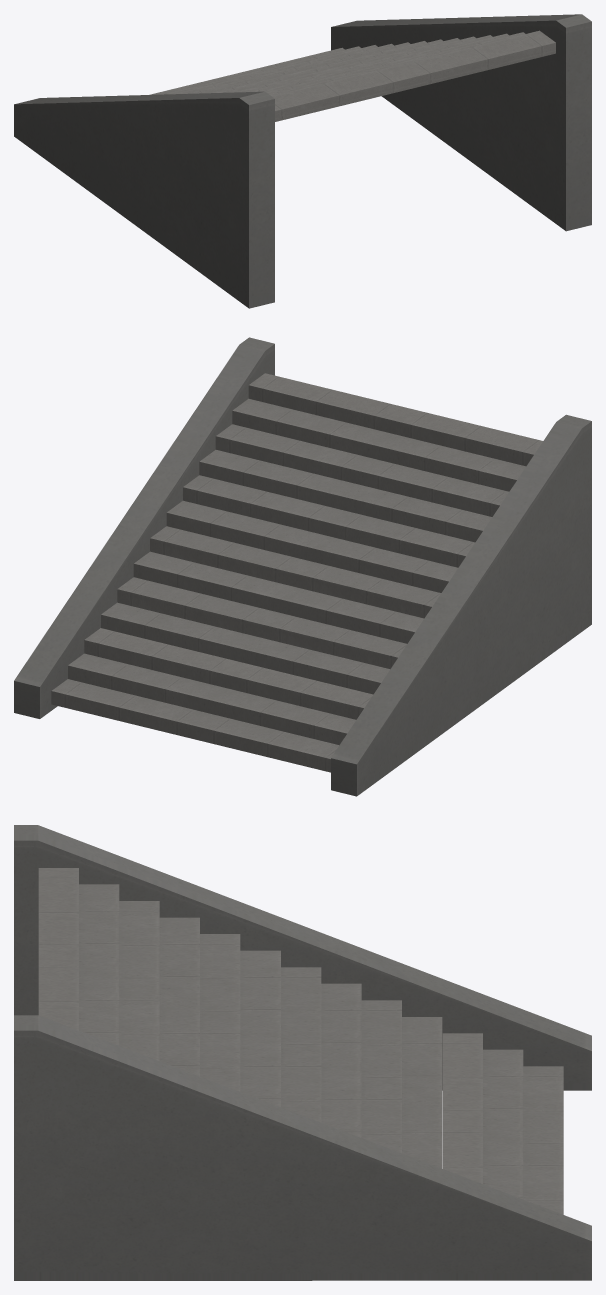
Rendered from BilldingStair_F.fbx.
3 renders of one model, top to bottom at view 1: azimuth 30°, elevation 25°; view 2: azimuth 150°, elevation 25°; view 3: azimuth 270°, elevation 25°, orthographic. The views are drawn at different scales.
Visible parts, largest first — view 1: BilldingStair_F; view 2: BilldingStair_F; view 3: BilldingStair_F.
Boxes of the visible parts, x1,y1,x2,y2 form: BilldingStair_F: (14, 14, 591, 308); BilldingStair_F: (14, 337, 591, 796); BilldingStair_F: (14, 825, 591, 1280).
Size of the model in its own units: 692 by 393 by 823.
2 materials, 2 textured.
